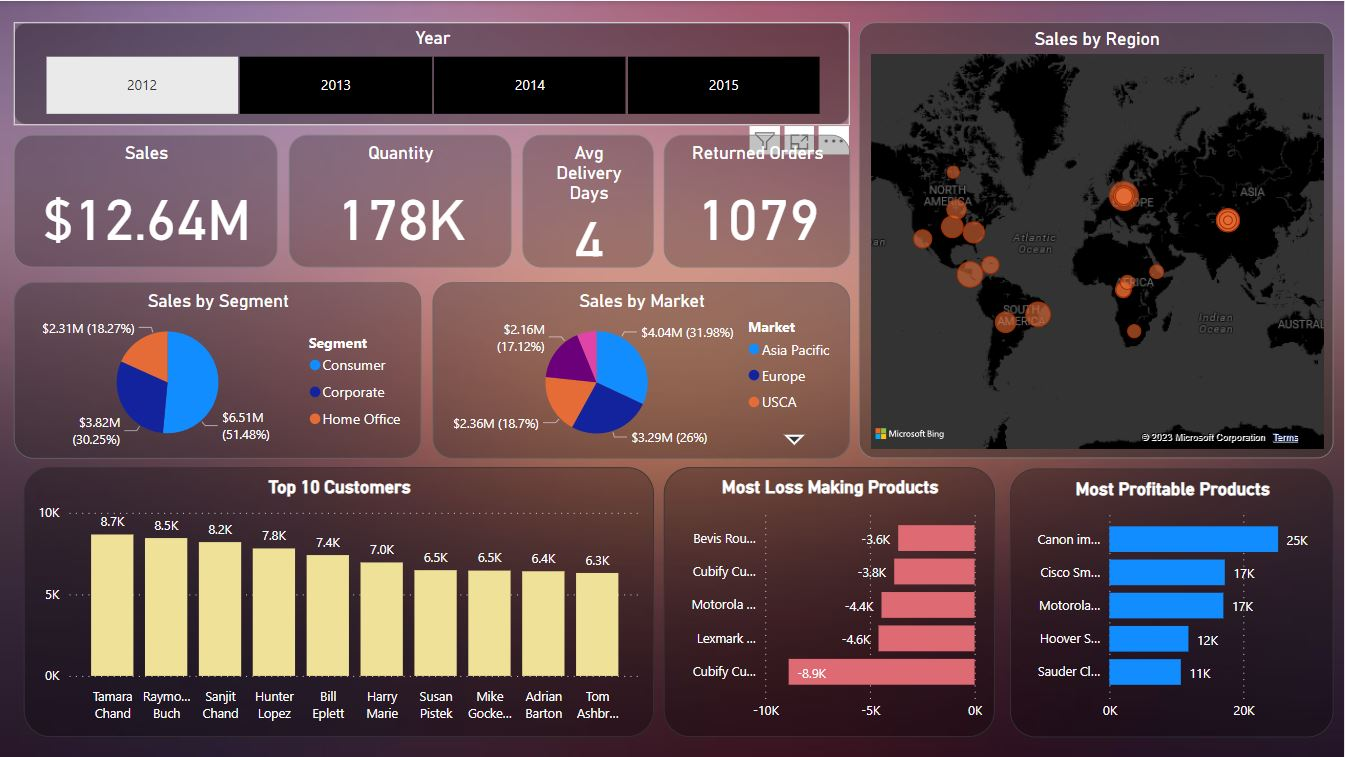

This screenshot's page, from the dashboard's own definition file:
{"tool":"powerbi","page":{"name":"Page 1","canvas":[1280,720],"ordinal":0},"visuals":[{"type":"card","title":"Sales","fields":{"Values":["Orders.Sales"]},"box":[13.1,127.3,251.1,126.1],"z":0},{"type":"card","title":"Quantity","fields":{"Values":["Orders.Quantity"]},"box":[274.9,127.3,211.8,126.1],"z":1000},{"type":"card","title":"Avg Delivery Days","fields":{"Values":["Orders.Delivery Days"]},"box":[497.5,127.3,125,126.1],"z":2000},{"type":"slicer","title":"Year","fields":{"Values":["Orders.Year"]},"box":[13.1,20.2,796.2,97.6],"z":3000},{"type":"card","title":"Returned Orders","fields":{"Values":["Returns.Custom"]},"box":[631.9,127.3,177.3,126.1],"z":4000},{"type":"map","fields":{"Category":["Orders.Region"],"Size":["Orders.Sales"]},"box":[817.6,20.2,452.2,415.3],"z":5000},{"type":"barChart","title":"Most Profitable Products","fields":{"Y":["Orders.Profit"],"Category":["Orders.Product Name"]},"box":[961.6,445.1,308.2,255.9],"z":6000},{"type":"barChart","title":"Most Loss Making Products","fields":{"Y":["Orders.Profit"],"Category":["Orders.Product Name"]},"box":[631.9,443.9,315.4,257.1],"z":7000},{"type":"pieChart","fields":{"Category":["Orders.Segment"],"Y":["Orders.Sales"]},"box":[13.1,267.8,388,167.8],"z":8000},{"type":"pieChart","fields":{"Category":["Orders.Market"],"Y":["Orders.Sales"]},"box":[411.8,267.8,397.5,167.8],"z":9000},{"type":"columnChart","title":"Top 10 Customers","fields":{"Y":["Orders.Profit"],"Category":["Orders.Customer Name"]},"box":[22.6,443.9,599.8,257.1],"z":10000}]}

Visuals, with their boxes in screenshot pixels (x1, y1, x2, y2), scaled from the page's 1280x720 canvas onto the 1345x757 screenshot:
"Sales" card: x1=14, y1=134, x2=278, y2=266
"Quantity" card: x1=289, y1=134, x2=511, y2=266
"Avg Delivery Days" card: x1=523, y1=134, x2=654, y2=266
"Year" slicer: x1=14, y1=21, x2=850, y2=124
"Returned Orders" card: x1=664, y1=134, x2=850, y2=266
map - Orders.Region x Orders.Sales: x1=859, y1=21, x2=1334, y2=458
"Most Profitable Products" barChart: x1=1010, y1=468, x2=1334, y2=737
"Most Loss Making Products" barChart: x1=664, y1=467, x2=995, y2=737
pieChart - Orders.Segment x Orders.Sales: x1=14, y1=282, x2=421, y2=458
pieChart - Orders.Market x Orders.Sales: x1=433, y1=282, x2=850, y2=458
"Top 10 Customers" columnChart: x1=24, y1=467, x2=654, y2=737
